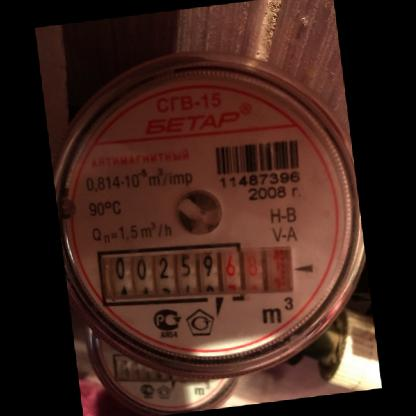digital_screen: (94, 240, 225, 310)
